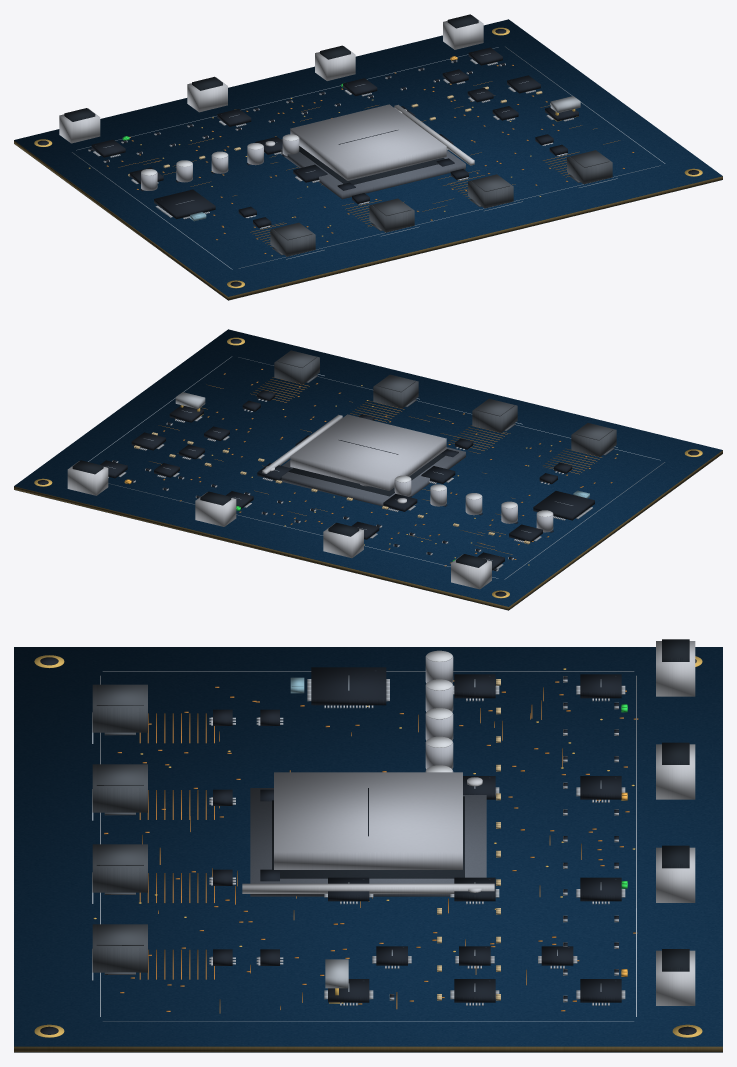
Rendered from L103_CPX11_Assembled_REFERENCE_ONLY.obj.
The picture shows the model from 3 angles, top to bottom: view 1: azimuth 30°, elevation 25°; view 2: azimuth 150°, elevation 25°; view 3: azimuth 270°, elevation 25°; orthographic projection. The views are drawn at different scales.
Parts seen in each view (by area): view 1: PCB_Main_TopSoldermask__PSMAT__PCB_Navy, CPU_Socket_And_Load_CPU_HeatSpreader__PSMAT__Cap_Aluminum, PCB_Main_FR4_Dielectric__PSMAT__PCB_Fiberglass, CPU_Socket_And_Load_SocketFrame__PSMAT__Plastic_Grey, U1_U1_Mold__PSMAT__IC_Mold, J1_ConnectorShell__PSMAT__Connector_Metal, J4_ConnectorShell__PSMAT__Connector_Metal, J3_ConnectorShell__PSMAT__Connector_Metal, J2_ConnectorShell__PSMAT__Connector_Metal, L3_Ferrite_Core__PSMAT__Inductor_Core, CPU_Socket_And_Load_SocketInner__PSMAT__Plastic_Black, L2_Ferrite_Core__PSMAT__Inductor_Core (+3 smaller); view 2: PCB_Main_TopSoldermask__PSMAT__PCB_Navy, CPU_Socket_And_Load_CPU_HeatSpreader__PSMAT__Cap_Aluminum, PCB_Main_FR4_Dielectric__PSMAT__PCB_Fiberglass, CPU_Socket_And_Load_SocketFrame__PSMAT__Plastic_Grey, U1_U1_Mold__PSMAT__IC_Mold, J3_ConnectorShell__PSMAT__Connector_Metal, J4_ConnectorShell__PSMAT__Connector_Metal, J2_ConnectorShell__PSMAT__Connector_Metal, J1_ConnectorShell__PSMAT__Connector_Metal, L3_Ferrite_Core__PSMAT__Inductor_Core, L4_Ferrite_Core__PSMAT__Inductor_Core, L1_Ferrite_Core__PSMAT__Inductor_Core (+3 smaller); view 3: PCB_Main_TopSoldermask__PSMAT__PCB_Navy, CPU_Socket_And_Load_CPU_HeatSpreader__PSMAT__Cap_Aluminum, CPU_Socket_And_Load_SocketFrame__PSMAT__Plastic_Grey, PCB_Main_FR4_Dielectric__PSMAT__PCB_Fiberglass, U1_U1_Mold__PSMAT__IC_Mold, CPU_Socket_And_Load_RetentionBar__PSMAT__Connector_Metal, CPU_Socket_And_Load_SocketInner__PSMAT__Plastic_Black, L4_Ferrite_Core__PSMAT__Inductor_Core, L3_Ferrite_Core__PSMAT__Inductor_Core, L2_Ferrite_Core__PSMAT__Inductor_Core, L1_Ferrite_Core__PSMAT__Inductor_Core, J2_ConnectorShell__PSMAT__Connector_Metal (+20 smaller).
Boxes of the visible parts, <box> form: PCB_Main_TopSoldermask__PSMAT__PCB_Navy: <box>14,19,722,296</box>; CPU_Socket_And_Load_CPU_HeatSpreader__PSMAT__Cap_Aluminum: <box>290,104,446,180</box>; PCB_Main_FR4_Dielectric__PSMAT__PCB_Fiberglass: <box>14,140,722,300</box>; CPU_Socket_And_Load_SocketFrame__PSMAT__Plastic_Grey: <box>278,139,465,199</box>; U1_U1_Mold__PSMAT__IC_Mold: <box>154,189,215,219</box>; J1_ConnectorShell__PSMAT__Connector_Metal: <box>59,108,100,143</box>; J4_ConnectorShell__PSMAT__Connector_Metal: <box>443,15,483,49</box>; J3_ConnectorShell__PSMAT__Connector_Metal: <box>315,46,355,80</box>; J2_ConnectorShell__PSMAT__Connector_Metal: <box>187,77,227,112</box>; L3_Ferrite_Core__PSMAT__Inductor_Core: <box>468,174,513,208</box>; CPU_Socket_And_Load_SocketInner__PSMAT__Plastic_Black: <box>299,146,444,184</box>; L2_Ferrite_Core__PSMAT__Inductor_Core: <box>369,198,414,232</box>; PCB_Main_TopSoldermask__PSMAT__PCB_Navy: <box>14,329,722,606</box>; CPU_Socket_And_Load_CPU_HeatSpreader__PSMAT__Cap_Aluminum: <box>290,414,446,490</box>; PCB_Main_FR4_Dielectric__PSMAT__PCB_Fiberglass: <box>14,450,722,610</box>; CPU_Socket_And_Load_SocketFrame__PSMAT__Plastic_Grey: <box>280,447,465,506</box>; U1_U1_Mold__PSMAT__IC_Mold: <box>533,491,594,520</box>; J3_ConnectorShell__PSMAT__Connector_Metal: <box>195,492,236,526</box>; J4_ConnectorShell__PSMAT__Connector_Metal: <box>67,461,108,495</box>; J2_ConnectorShell__PSMAT__Connector_Metal: <box>323,523,363,558</box>; J1_ConnectorShell__PSMAT__Connector_Metal: <box>451,554,491,589</box>; L3_Ferrite_Core__PSMAT__Inductor_Core: <box>373,374,418,408</box>; L4_Ferrite_Core__PSMAT__Inductor_Core: <box>274,350,319,384</box>; L1_Ferrite_Core__PSMAT__Inductor_Core: <box>571,423,616,456</box>; PCB_Main_TopSoldermask__PSMAT__PCB_Navy: <box>14,647,722,1046</box>; CPU_Socket_And_Load_CPU_HeatSpreader__PSMAT__Cap_Aluminum: <box>274,772,462,869</box>; CPU_Socket_And_Load_SocketFrame__PSMAT__Plastic_Grey: <box>250,788,486,896</box>; PCB_Main_FR4_Dielectric__PSMAT__PCB_Fiberglass: <box>14,1046,722,1052</box>; U1_U1_Mold__PSMAT__IC_Mold: <box>311,667,386,705</box>; CPU_Socket_And_Load_RetentionBar__PSMAT__Connector_Metal: <box>242,883,494,893</box>; CPU_Socket_And_Load_SocketInner__PSMAT__Plastic_Black: <box>272,796,464,878</box>; L4_Ferrite_Core__PSMAT__Inductor_Core: <box>92,924,147,972</box>; L3_Ferrite_Core__PSMAT__Inductor_Core: <box>92,844,147,892</box>; L2_Ferrite_Core__PSMAT__Inductor_Core: <box>92,764,147,812</box>; L1_Ferrite_Core__PSMAT__Inductor_Core: <box>92,684,147,732</box>; J2_ConnectorShell__PSMAT__Connector_Metal: <box>656,744,695,799</box>.
Bounding box in the file's own units: 0.24 × 0.013 × 0.18.
Materials: 18 (18 with a texture image).
